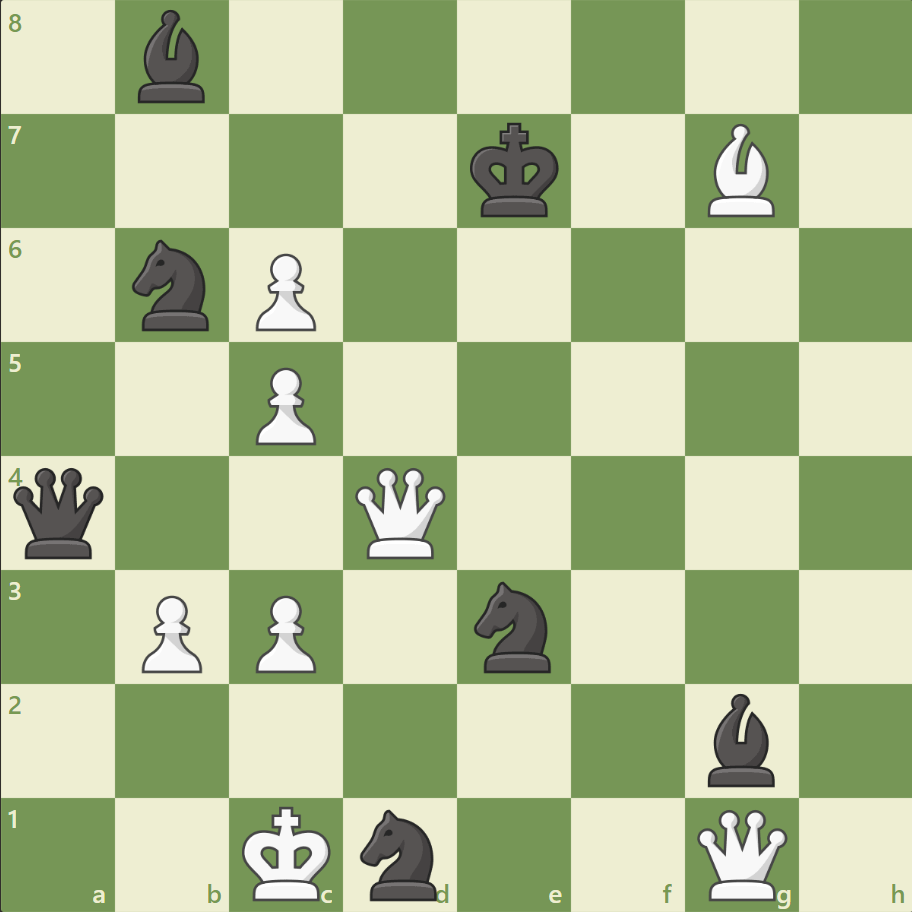B: (698, 120, 782, 222)
K: (238, 798, 338, 906)
P: (247, 246, 322, 337), (247, 359, 322, 450), (133, 586, 208, 677), (247, 586, 322, 677)
Q: (351, 463, 450, 562), (691, 804, 790, 903)
b: (131, 6, 215, 109), (698, 687, 782, 790)
k: (465, 117, 565, 225)
n: (124, 234, 222, 337), (351, 802, 449, 904), (465, 575, 562, 677)
q: (10, 463, 109, 562)
